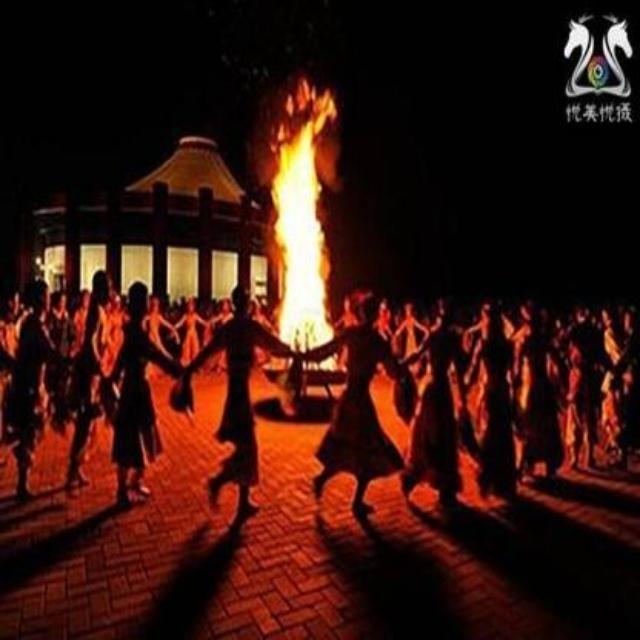Fire: (264, 78, 344, 372)
